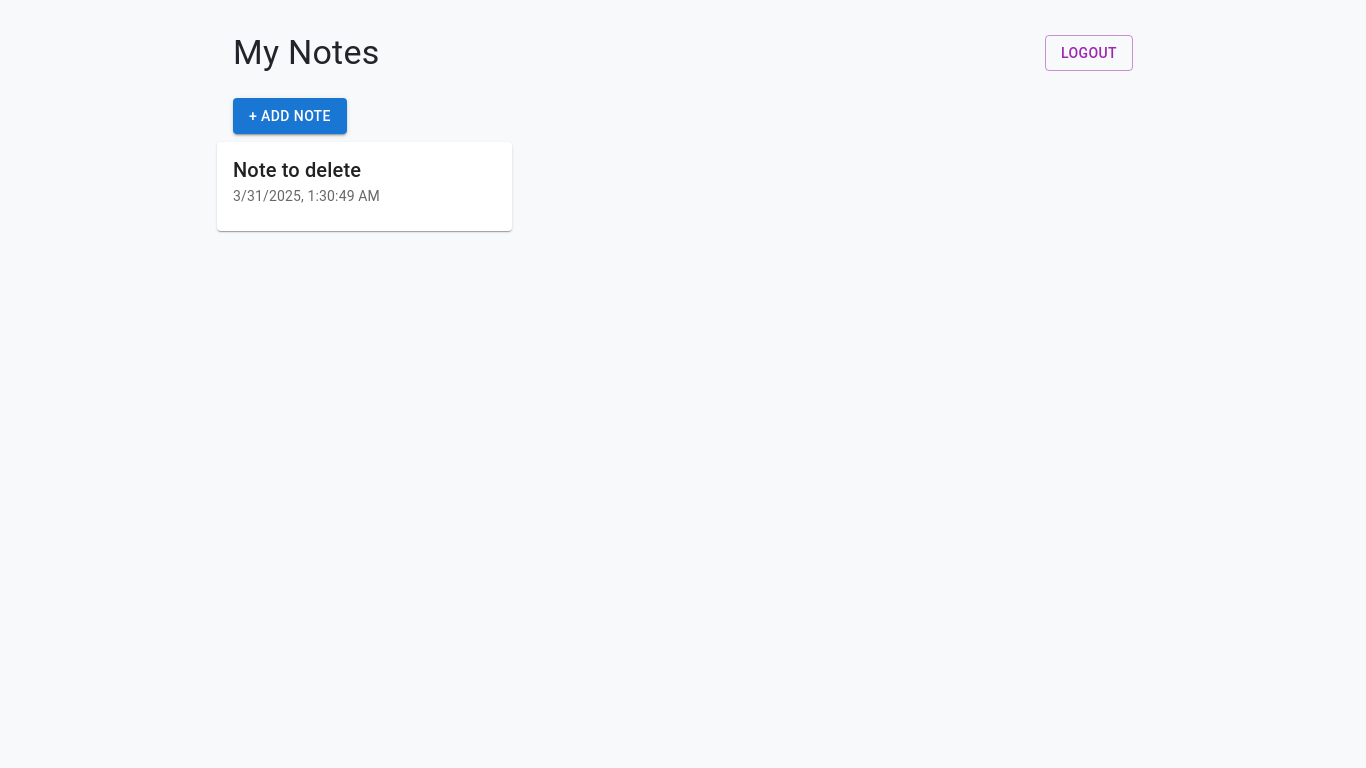
Scenario: Notes App › creates a new note and shows it on the homepage
This screenshot has width=1366, height=768.
Click the button "+ Add Note". click: (290, 116)
box: [233,98,347,134]
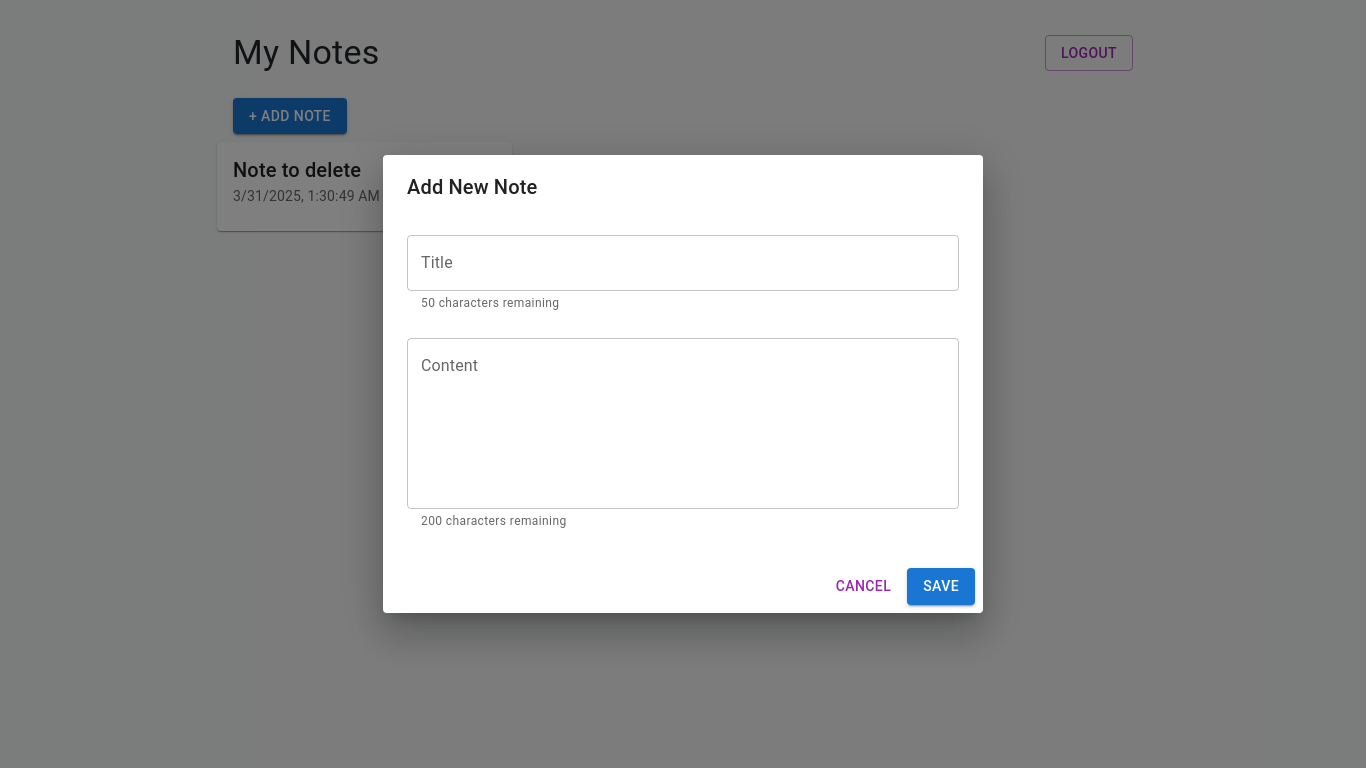
Type "Test Note" into the field labelled "Title". click: (683, 263)
box: [407,235,959,291]
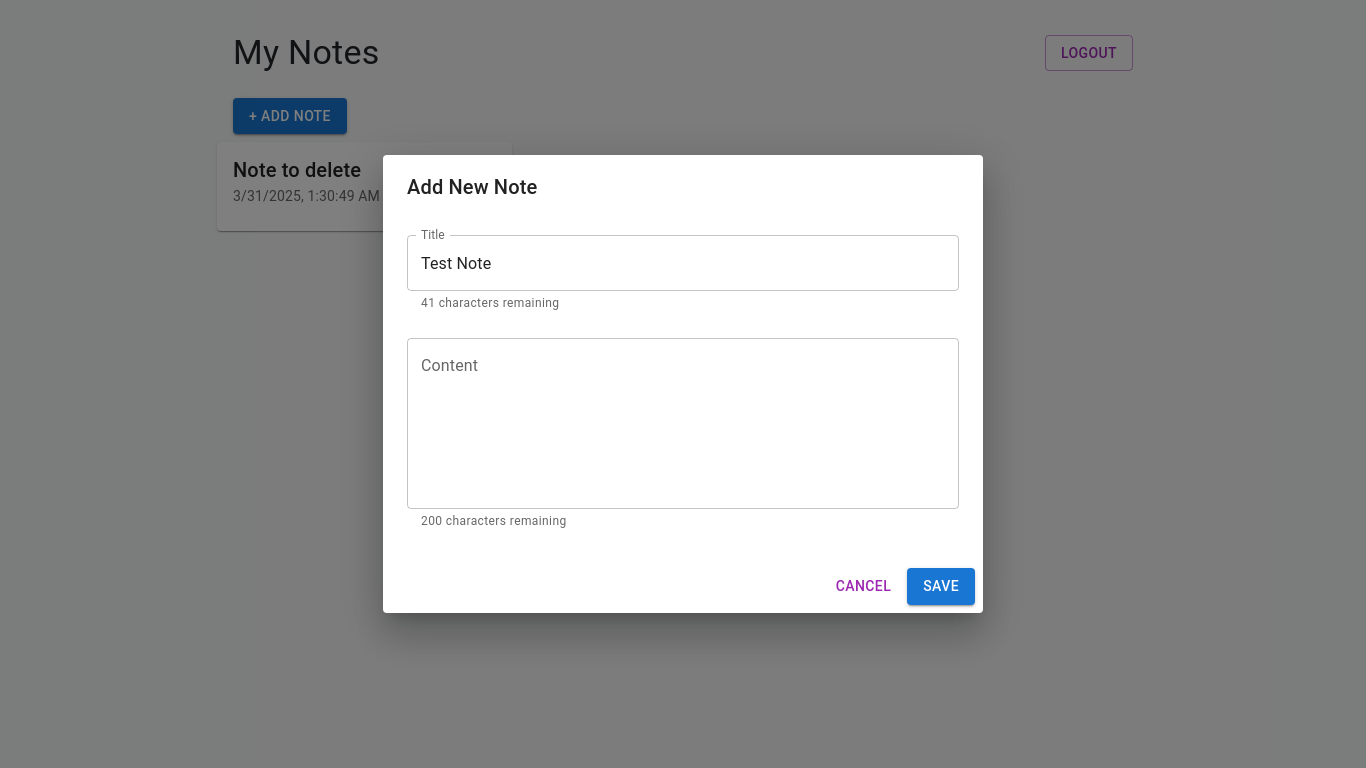
Type "Test Content" into the text box labelled "Content". click: (683, 424)
box: [421,355,945,493]
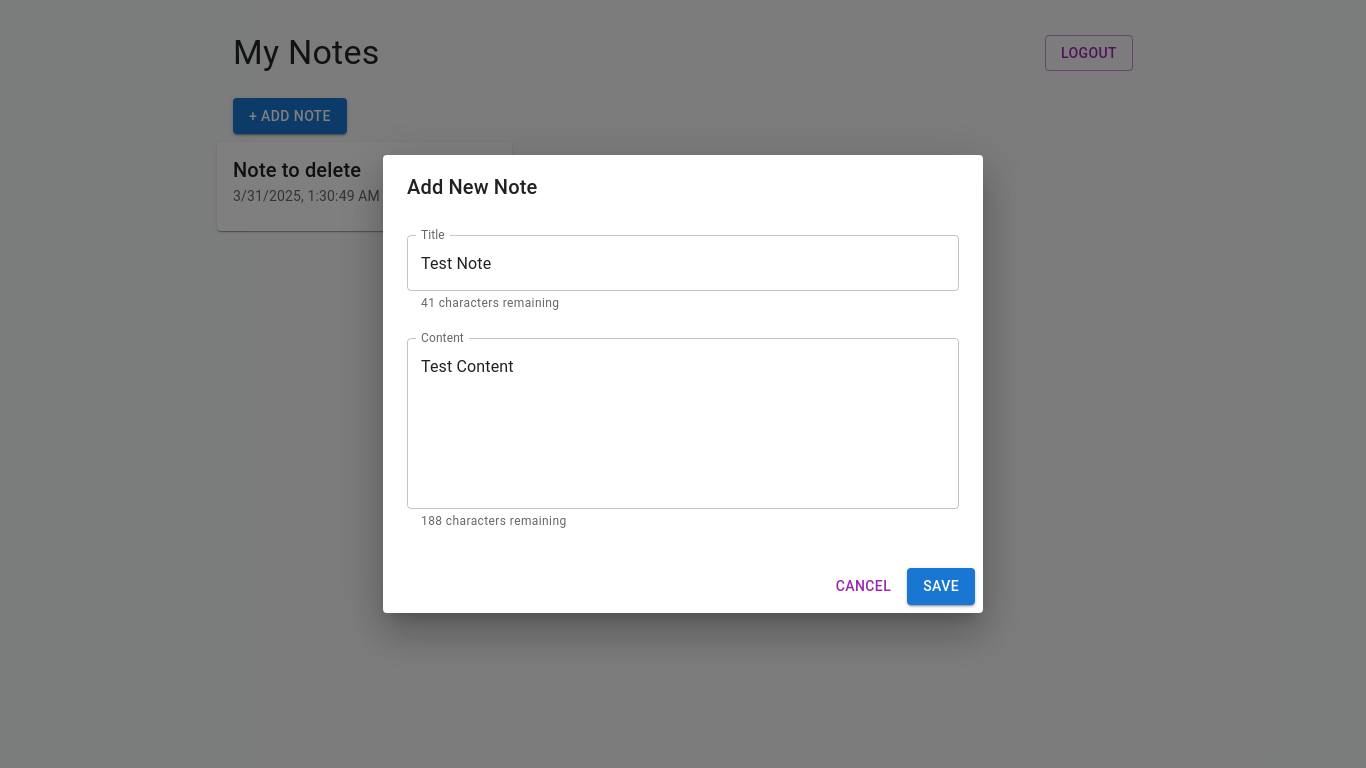
Click the button "Save". click: (941, 586)
box: [907,568,975,605]
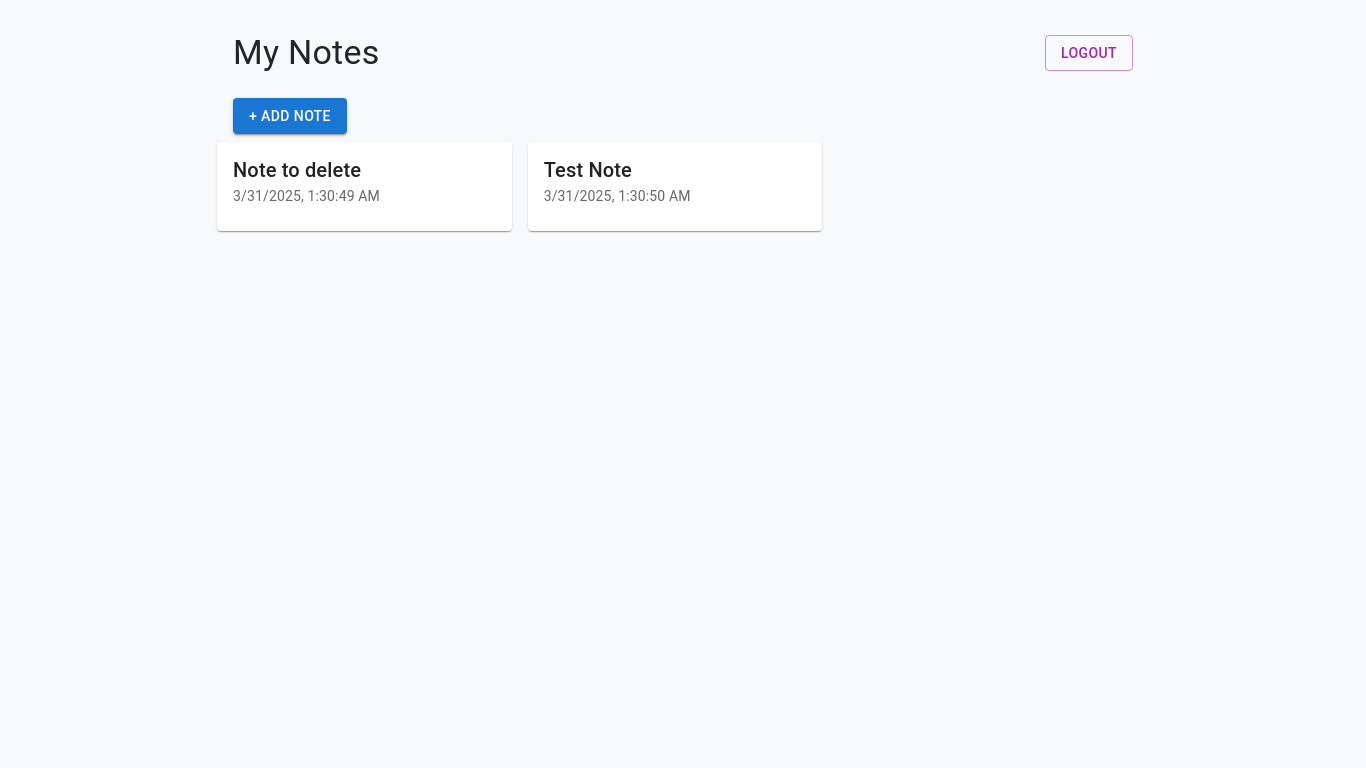
Result: the heading "Test Note" is shown at [544,158,632,182]
